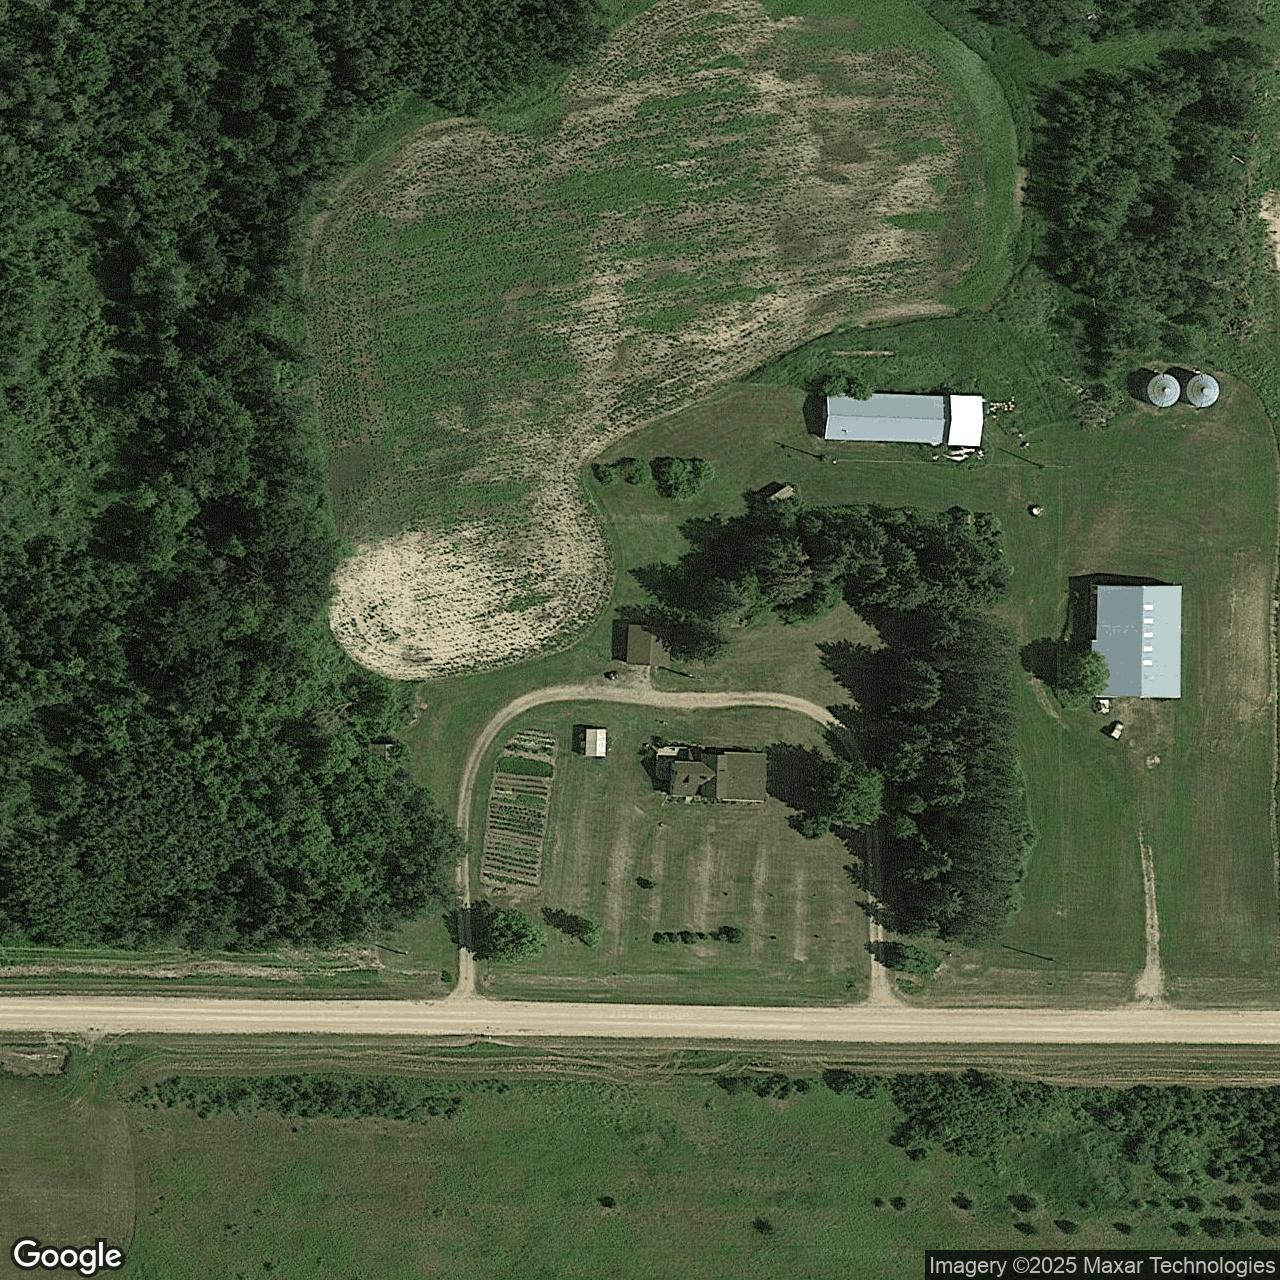Garage: (627, 625, 673, 667), (585, 728, 606, 756)
House: (1091, 585, 1183, 699), (819, 393, 983, 447), (668, 753, 767, 803)
